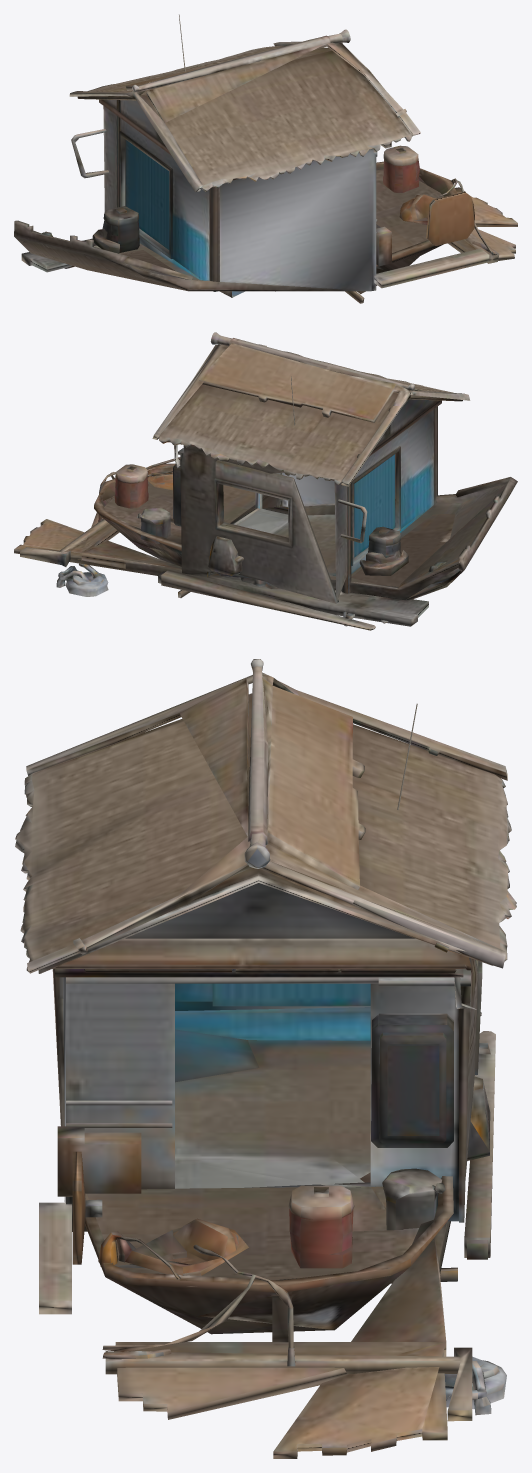
File: longtail_dock.glb
The picture shows the model from 3 angles, top to bottom: view 1: azimuth 30°, elevation 25°; view 2: azimuth 150°, elevation 25°; view 3: azimuth 270°, elevation 25°; orthographic projection. The views are drawn at different scales.
Parts seen in each view (by area): view 1: Body; view 2: Body; view 3: Body.
Part boxes in pixels (x1,y1,x2,y2): Body: (14, 14, 517, 303); Body: (14, 332, 517, 630); Body: (15, 659, 516, 1458).
Bounding box in the file's own units: 14.97 × 8.04 × 7.32.
1 material, 1 textured.
